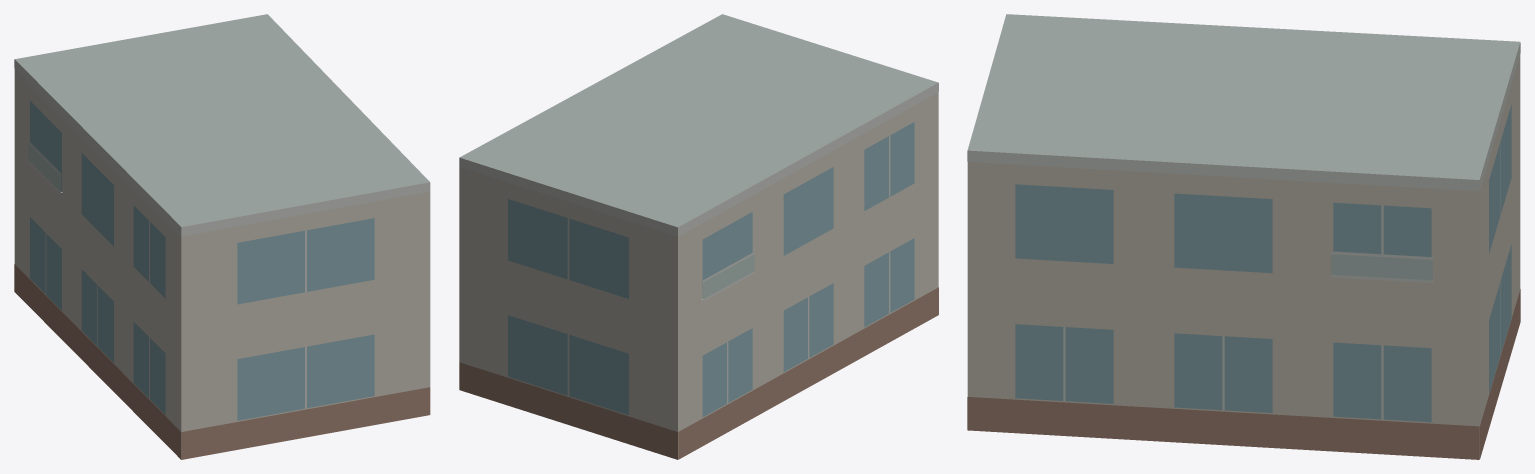
The model's file is survey-upis-32906237.glb.
3 renders of one model, left to right at view 1: azimuth 30°, elevation 25°; view 2: azimuth 150°, elevation 25°; view 3: azimuth 270°, elevation 25°, orthographic. The views are drawn at different scales.
Visible parts, largest first — view 1: survey-upis-32906237.tmp; view 2: survey-upis-32906237.tmp; view 3: survey-upis-32906237.tmp.
Boxes of the visible parts, x1,y1,x2,y2 form: survey-upis-32906237.tmp: (14,14,430,459); survey-upis-32906237.tmp: (459,14,938,459); survey-upis-32906237.tmp: (967,14,1520,459).
Bounding box in the file's own units: 7.78 × 6.1 × 10.94.
